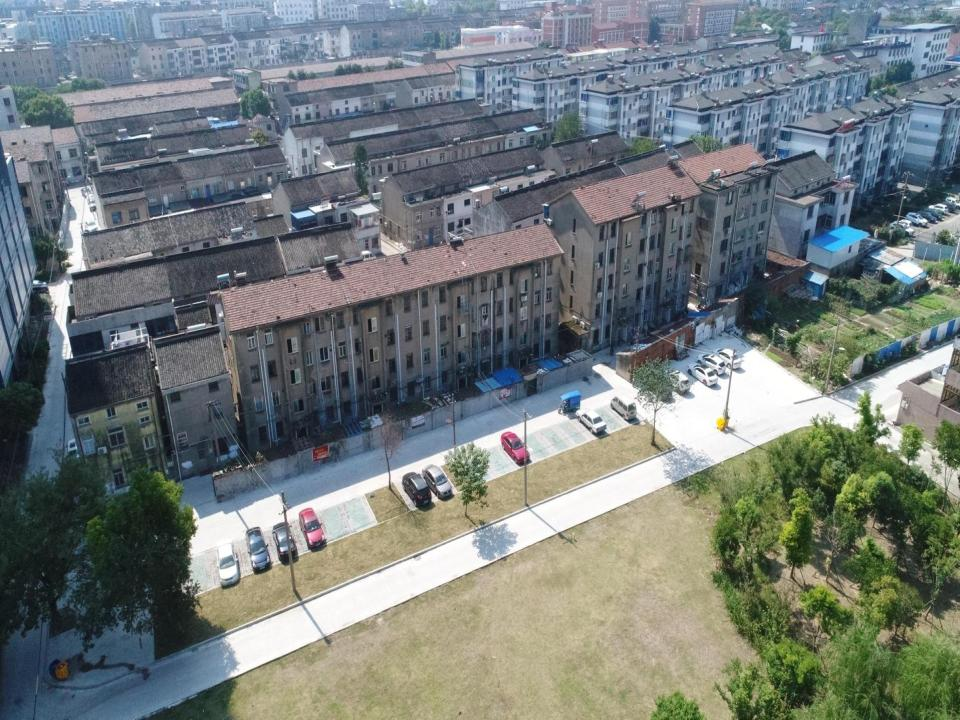car: (297, 505, 326, 550), (243, 527, 270, 574), (399, 471, 432, 507), (421, 463, 453, 500), (500, 430, 530, 467), (271, 522, 298, 562), (215, 542, 239, 586), (687, 362, 719, 388), (576, 408, 606, 434), (696, 353, 728, 375), (714, 348, 742, 369), (668, 369, 691, 394), (67, 438, 83, 466), (906, 211, 928, 228), (27, 284, 51, 298), (28, 280, 48, 294), (928, 203, 948, 216), (918, 211, 937, 224), (924, 207, 943, 220), (84, 221, 98, 236), (941, 200, 956, 213), (946, 196, 959, 208), (80, 186, 92, 199), (88, 199, 99, 213), (86, 194, 95, 204)
van: (610, 393, 638, 421)
